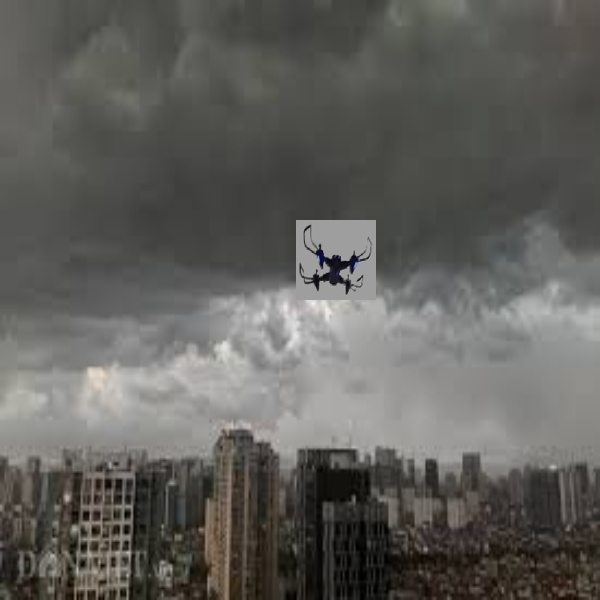drone: (295, 223, 378, 300)
